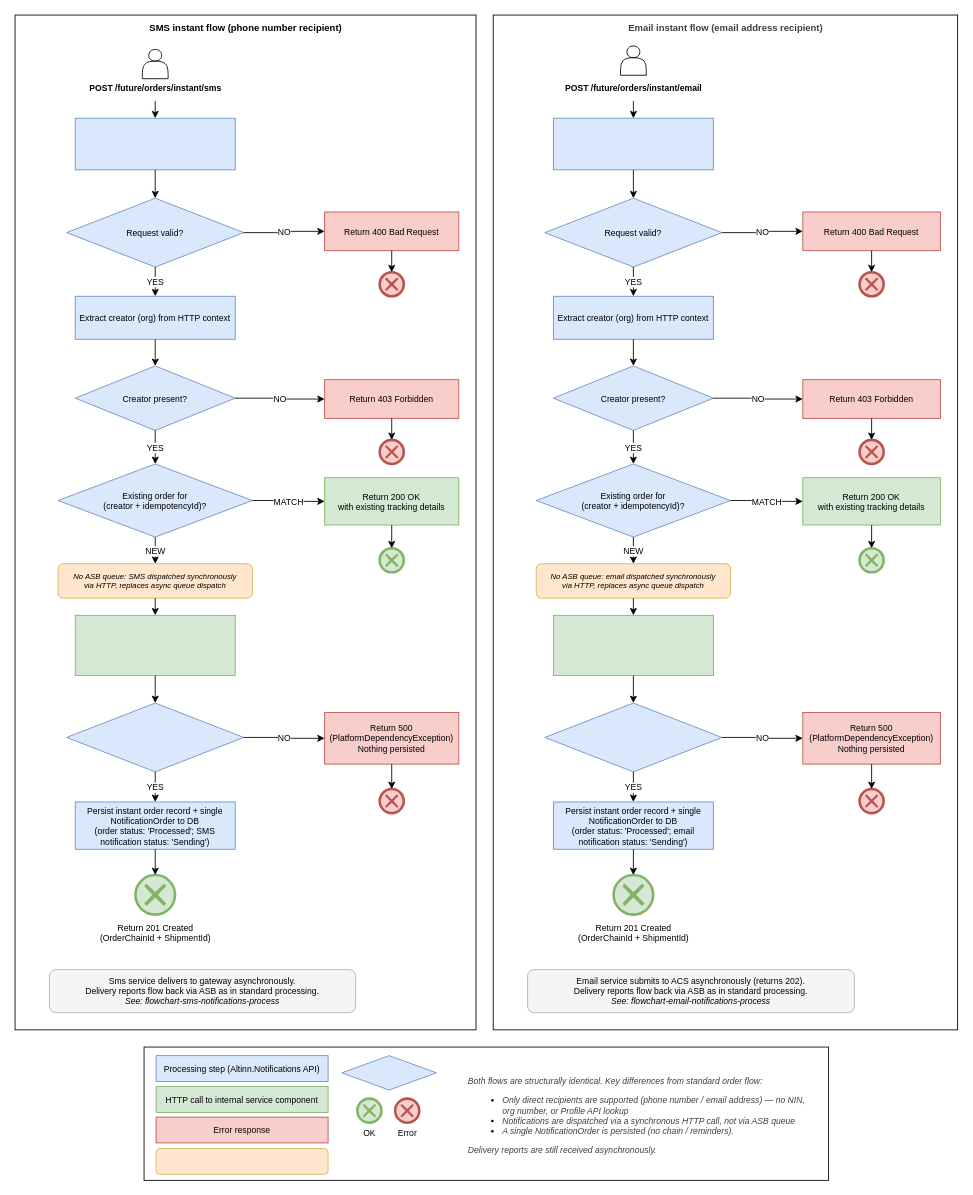
Image size: 973x1195. Some labels were removed from this diagram. Each missing label, with the box of its shape:
Architectural note: (155, 1148, 328, 1174)
Decision: (341, 1055, 436, 1090)
HTTP POST /instantemail to Altinn.Notifications.Email service: (553, 614, 713, 676)
HTTP POST /instantmessage/send to Altinn.Notifications.Sms service: (74, 614, 235, 676)
Service returned 200 response?: (66, 702, 244, 772)
Service returned 202 response?: (544, 702, 722, 772)
Validate request (idempotencyId, emailAddress, subject, body, contentType): (553, 117, 713, 170)
Validate request (idempotencyId, phoneNumber, timeToLive, smsSettings): (74, 117, 235, 170)
